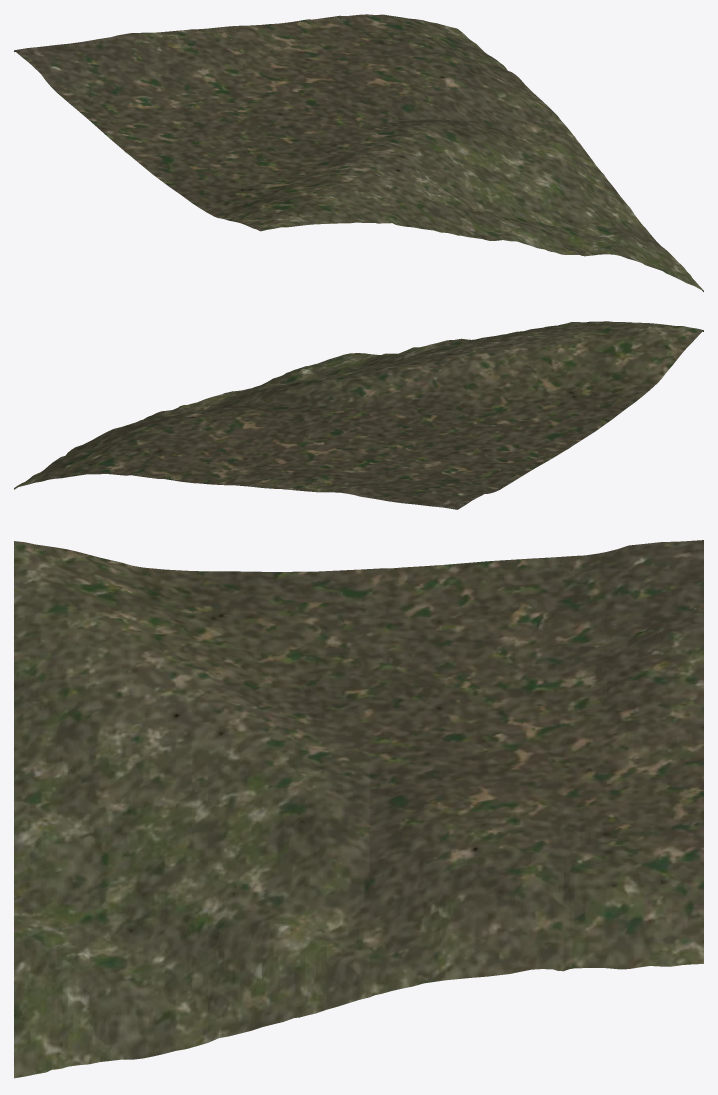
3 views of the same model, one above another, from view 1: azimuth 30°, elevation 25°; view 2: azimuth 150°, elevation 25°; view 3: azimuth 270°, elevation 25° (orthographic). The views are drawn at different scales.
Size of the model in its own units: 250 by 91.59 by 241.
1 material, 1 textured.
